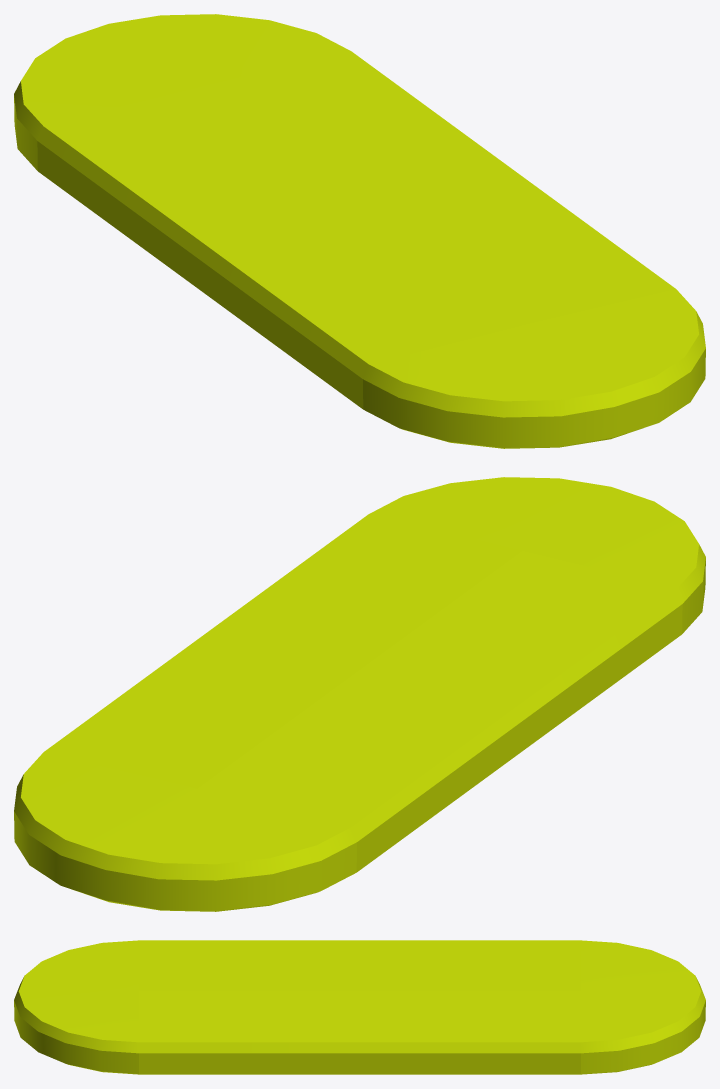
Rendered from Blocker_Board_Medium.fbx.
3 views of the same model, one above another, from view 1: azimuth 30°, elevation 25°; view 2: azimuth 150°, elevation 25°; view 3: azimuth 270°, elevation 25° (orthographic). The views are drawn at different scales.
Parts seen in each view (by area): view 1: Blocker_Board_Medium; view 2: Blocker_Board_Medium; view 3: Blocker_Board_Medium.
Part boxes in pixels (x1=…): Blocker_Board_Medium: x1=14, y1=14, x2=705, y2=448; Blocker_Board_Medium: x1=14, y1=477, x2=705, y2=911; Blocker_Board_Medium: x1=14, y1=940, x2=705, y2=1074.
Bounding box in the file's own units: 2.28 × 0.3402 × 6.31.
